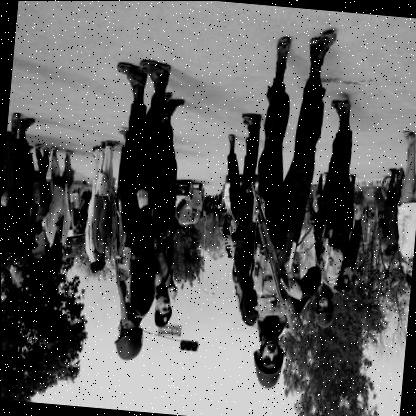rifle: (229, 173, 320, 333), (92, 184, 146, 329)
